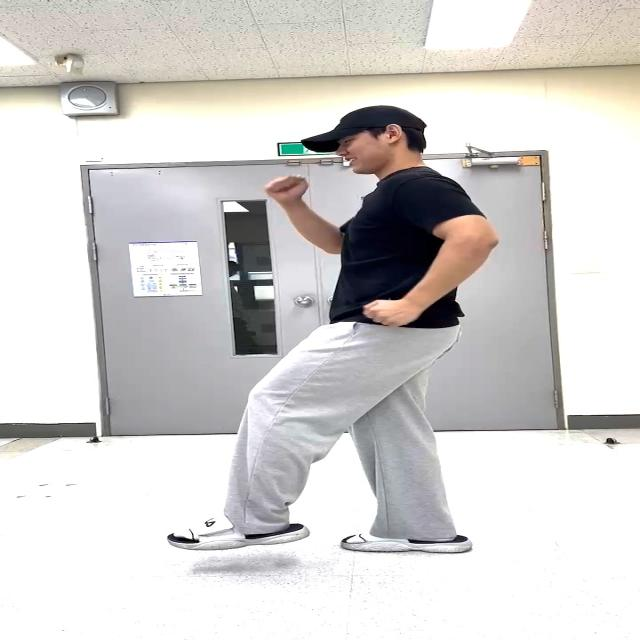leg: (152, 305, 380, 593)
